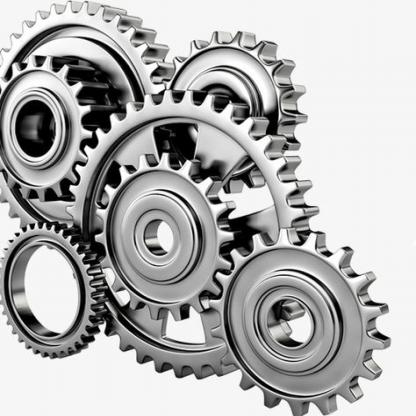FOD: (68, 83, 320, 381), (208, 224, 393, 415), (155, 23, 308, 198), (90, 148, 236, 324), (0, 45, 111, 208), (0, 222, 107, 360)
